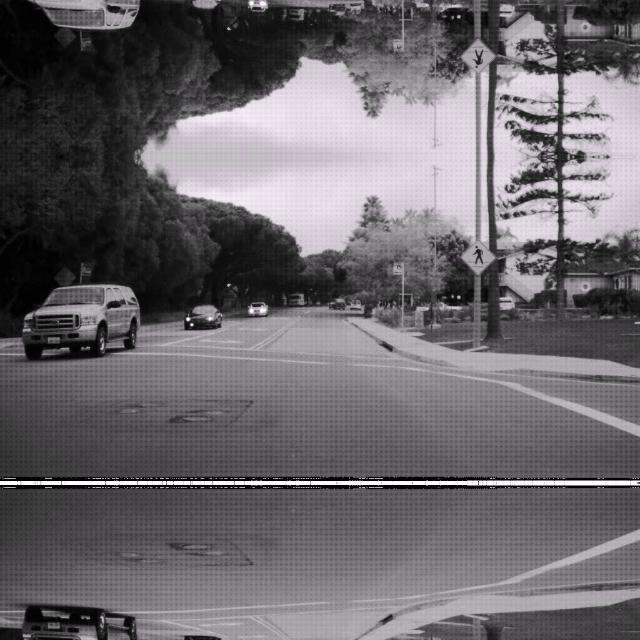pedestrianCrossing: (460, 237, 496, 275), (460, 37, 496, 75)
